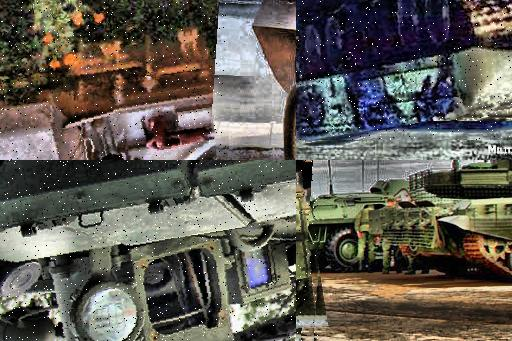tanks: (1, 161, 297, 341), (1, 1, 220, 161), (297, 1, 512, 141), (383, 161, 512, 281), (297, 181, 409, 272)
